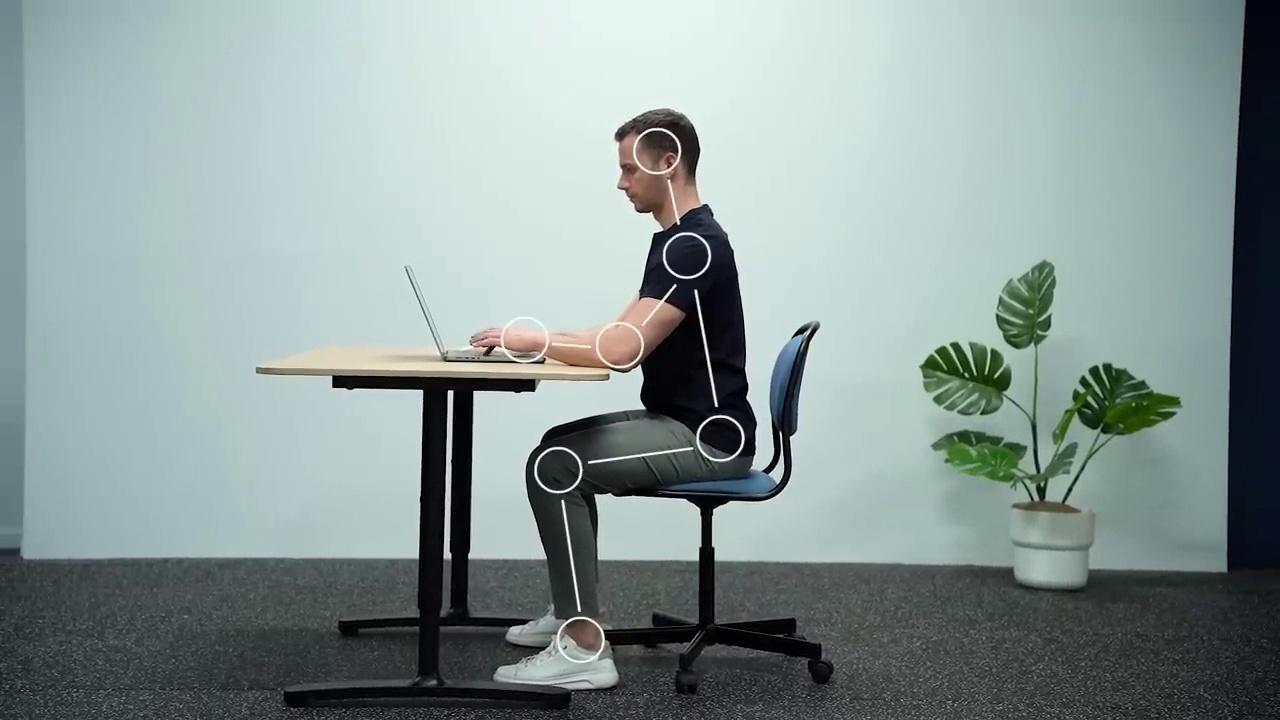GoodPosture: (470, 108, 752, 690)
